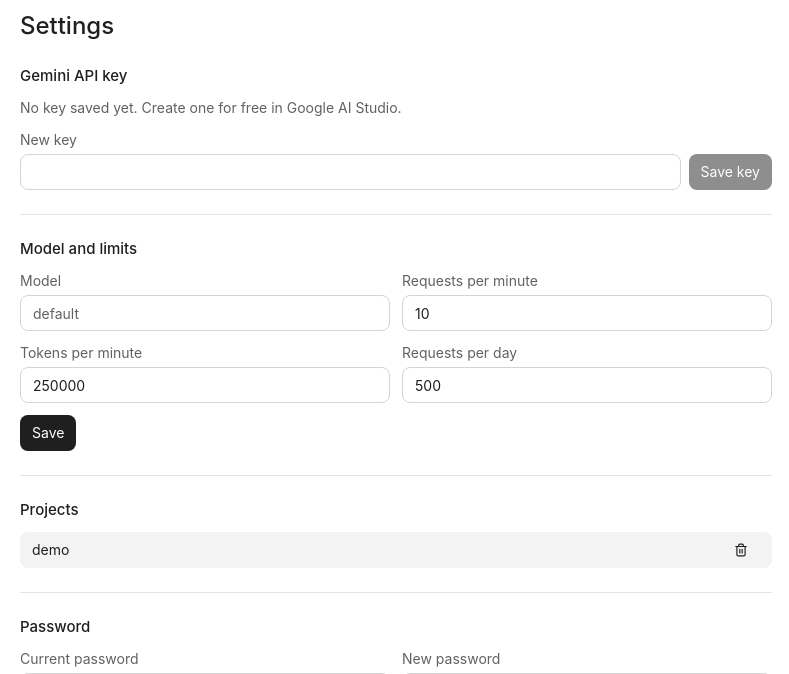
Test: SettingsPage › says when the Gemini key is saved
The width and height of the screenshot is (789, 674).
Type "AIza-secret" into the password field labelled "New key" at x=350, y=172, box [20,154,680,190]
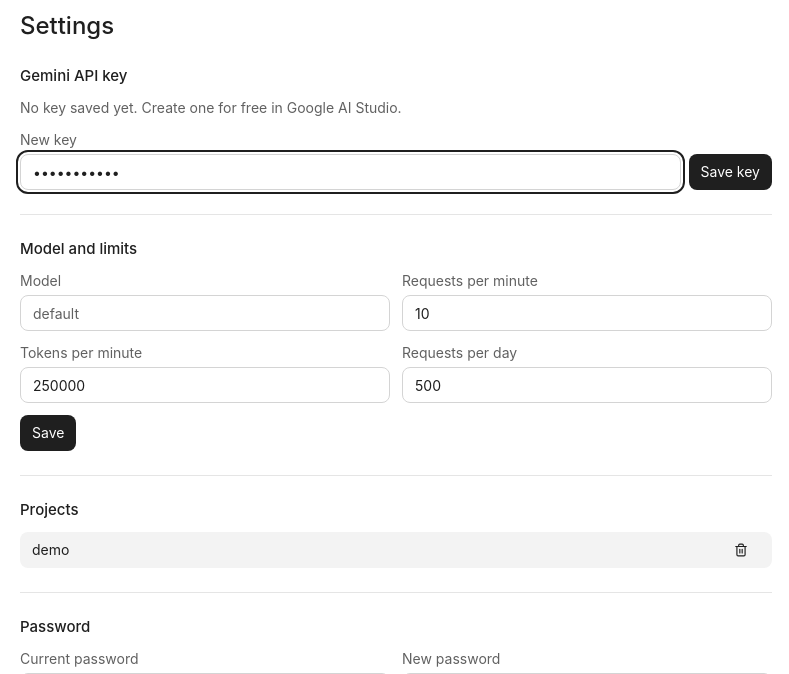
Click the button "Save key" at x=730, y=172, box [688,154,772,190]
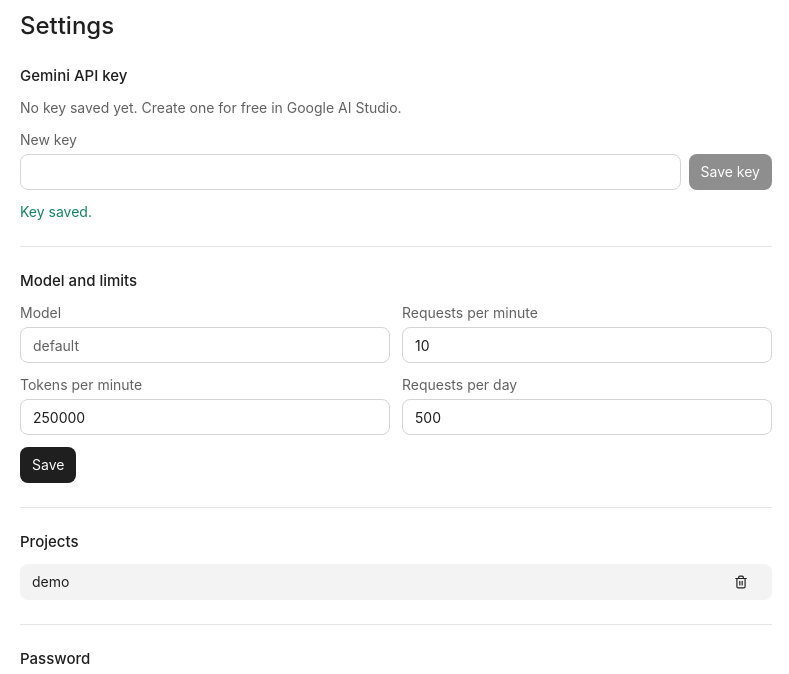
Now the message shows "Key saved", box [20,203,92,220]
